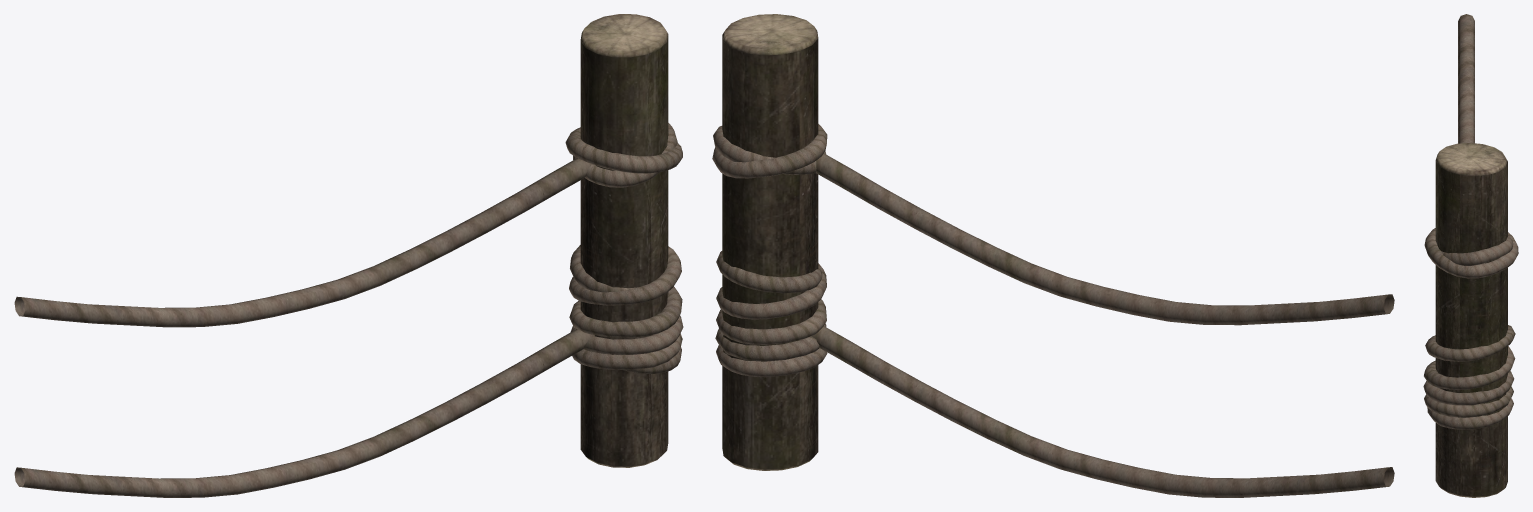
The model's file is rope_fence05.fbx.
The picture shows the model from 3 angles, left to right: view 1: azimuth 30°, elevation 25°; view 2: azimuth 150°, elevation 25°; view 3: azimuth 270°, elevation 25°; orthographic projection. The views are drawn at different scales.
Parts seen in each view (by area): view 1: rope_fence05; view 2: rope_fence05; view 3: rope_fence05.
Part boxes in pixels (x1,y1,x2,y2): rope_fence05: (14,14,683,497); rope_fence05: (712,14,1394,497); rope_fence05: (1423,14,1518,497).
Bounding box in the file's own units: 213 × 128 × 33.83.
